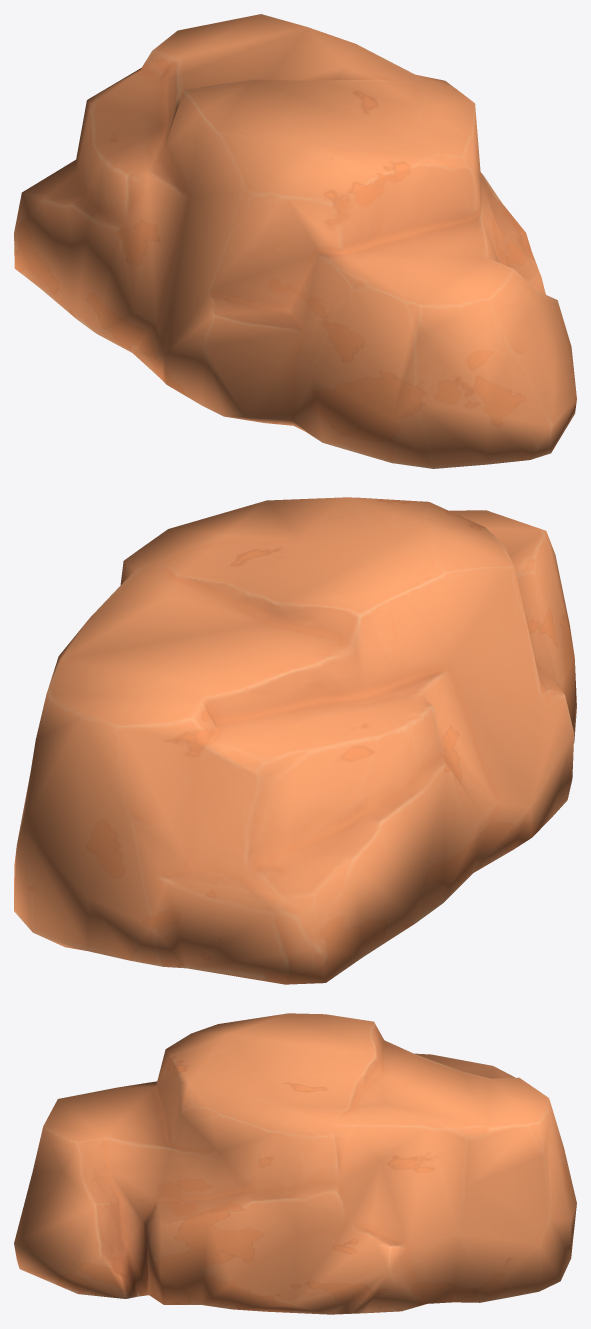
The model's file is Rock_6.fbx.
The picture shows the model from 3 angles, top to bottom: view 1: azimuth 30°, elevation 25°; view 2: azimuth 150°, elevation 25°; view 3: azimuth 270°, elevation 25°; orthographic projection. The views are drawn at different scales.
Visible parts, largest first — view 1: Rock_6; view 2: Rock_6; view 3: Rock_6.
Part boxes in pixels (x1=…): Rock_6: x1=14, y1=14, x2=576, y2=468; Rock_6: x1=14, y1=497, x2=576, y2=984; Rock_6: x1=14, y1=1013, x2=576, y2=1314.
Bounding box in the file's own units: 311 × 207 × 534.
Materials: 1 (1 with a texture image).
